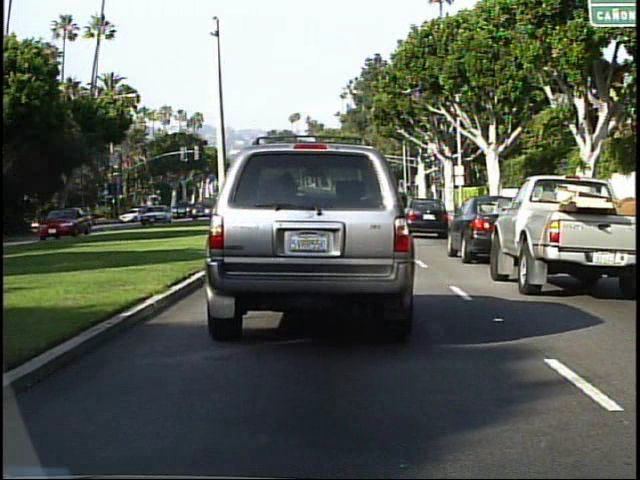person: (68, 205, 82, 226)
